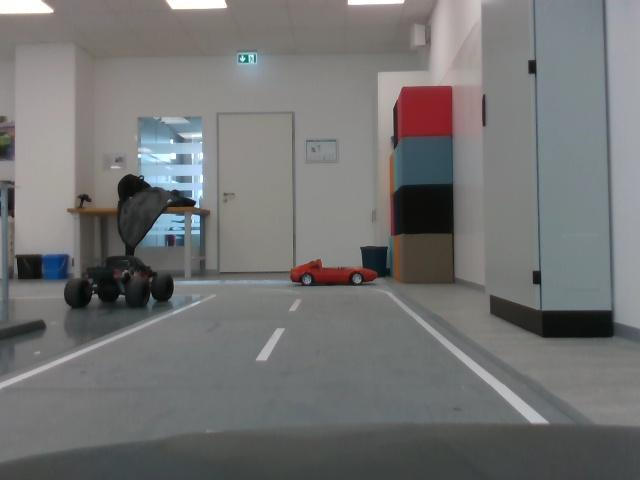car: (62, 250, 180, 316), (290, 259, 381, 290)
